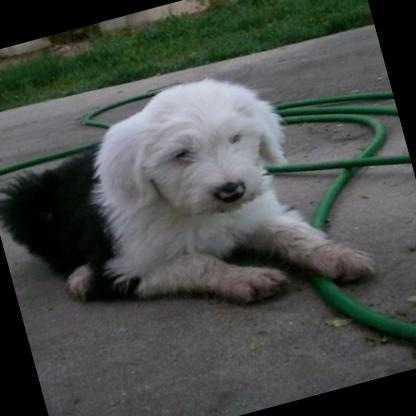Old_English_sheepdog: (0, 41, 379, 368)
